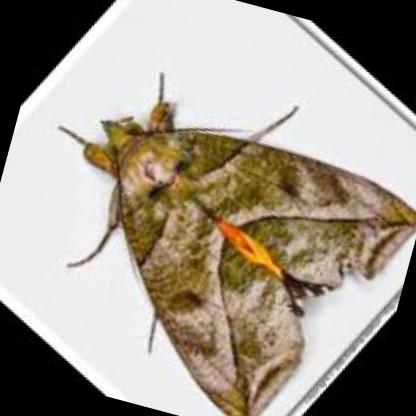fruit sucking moth: (100, 119, 416, 416)
